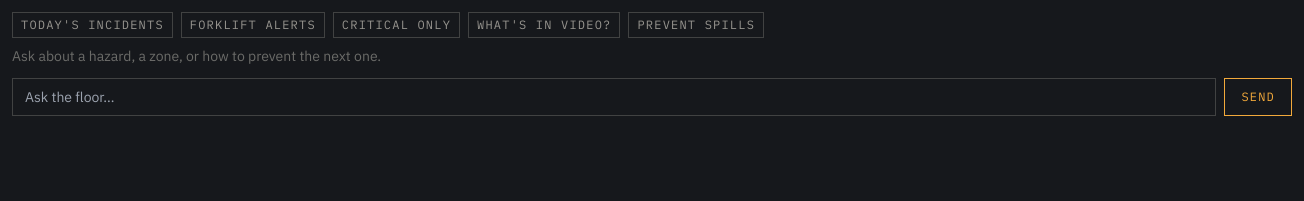
Test: ChatPanel › renders markdown in assistant replies
Type "how many ppe violations today?" into the field with test id "chat-input". click: (614, 97)
box: [12,78,1216,116]
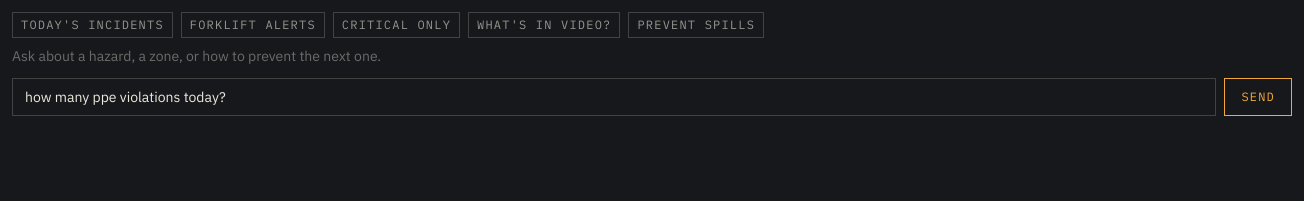
Click the button "Send". click: (1258, 97)
box: [1224,78,1292,116]
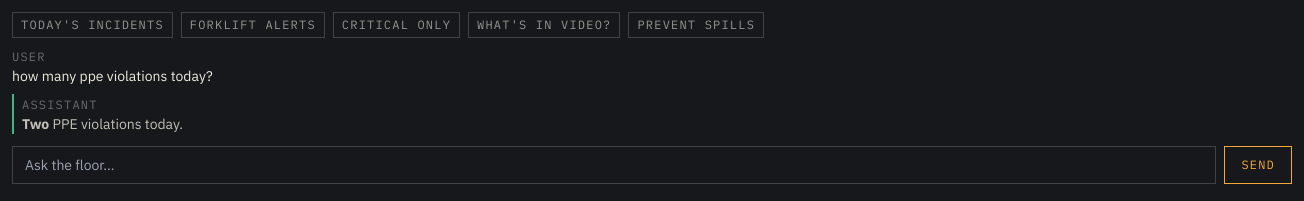
Expected: the text "Two" is shown, [22,115,49,133]
